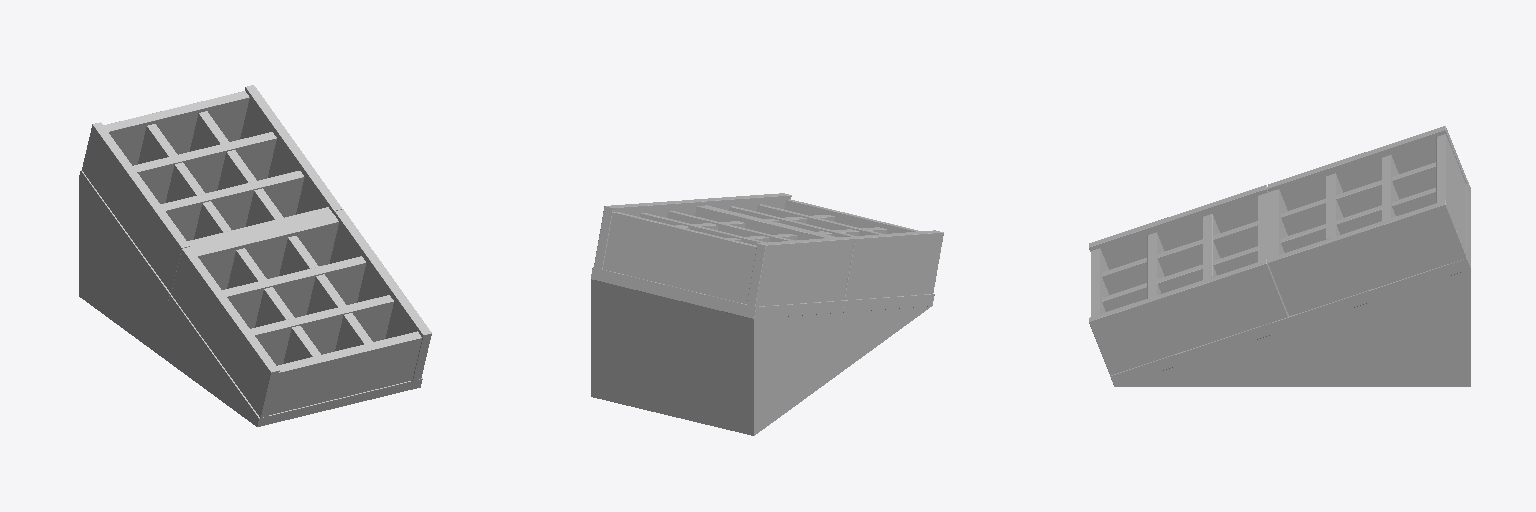
File: CR_ring_toss_rack.obj
3 renders of one model, left to right at view 1: azimuth 30°, elevation 25°; view 2: azimuth 150°, elevation 25°; view 3: azimuth 270°, elevation 25°, orthographic.
Parts seen in each view (by area): view 1: 18851_Ring_Toss_Game_V1.002; view 2: 18851_Ring_Toss_Game_V1.002; view 3: 18851_Ring_Toss_Game_V1.002.
Part boxes in pixels (x1,y1,x2,y2): 18851_Ring_Toss_Game_V1.002: (79, 85, 431, 426); 18851_Ring_Toss_Game_V1.002: (591, 193, 943, 435); 18851_Ring_Toss_Game_V1.002: (1089, 126, 1470, 386).
Size of the model in its own units: 49.47 by 52.49 by 100.